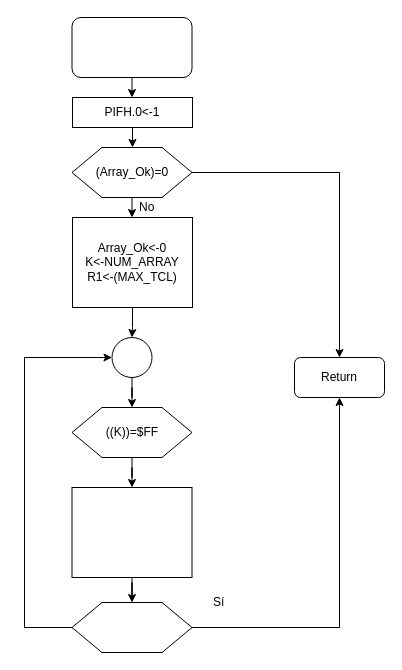
Image size: 402x670. Some labels were removed from this diagram. Each missing label, with the box of its shape:
(K)<-$FF K<-(K)+1 R1<-(R1)-1: (71, 486, 192, 578)
(R1)=0: (71, 602, 192, 652)
PH0_ISR: (71, 16, 192, 78)
